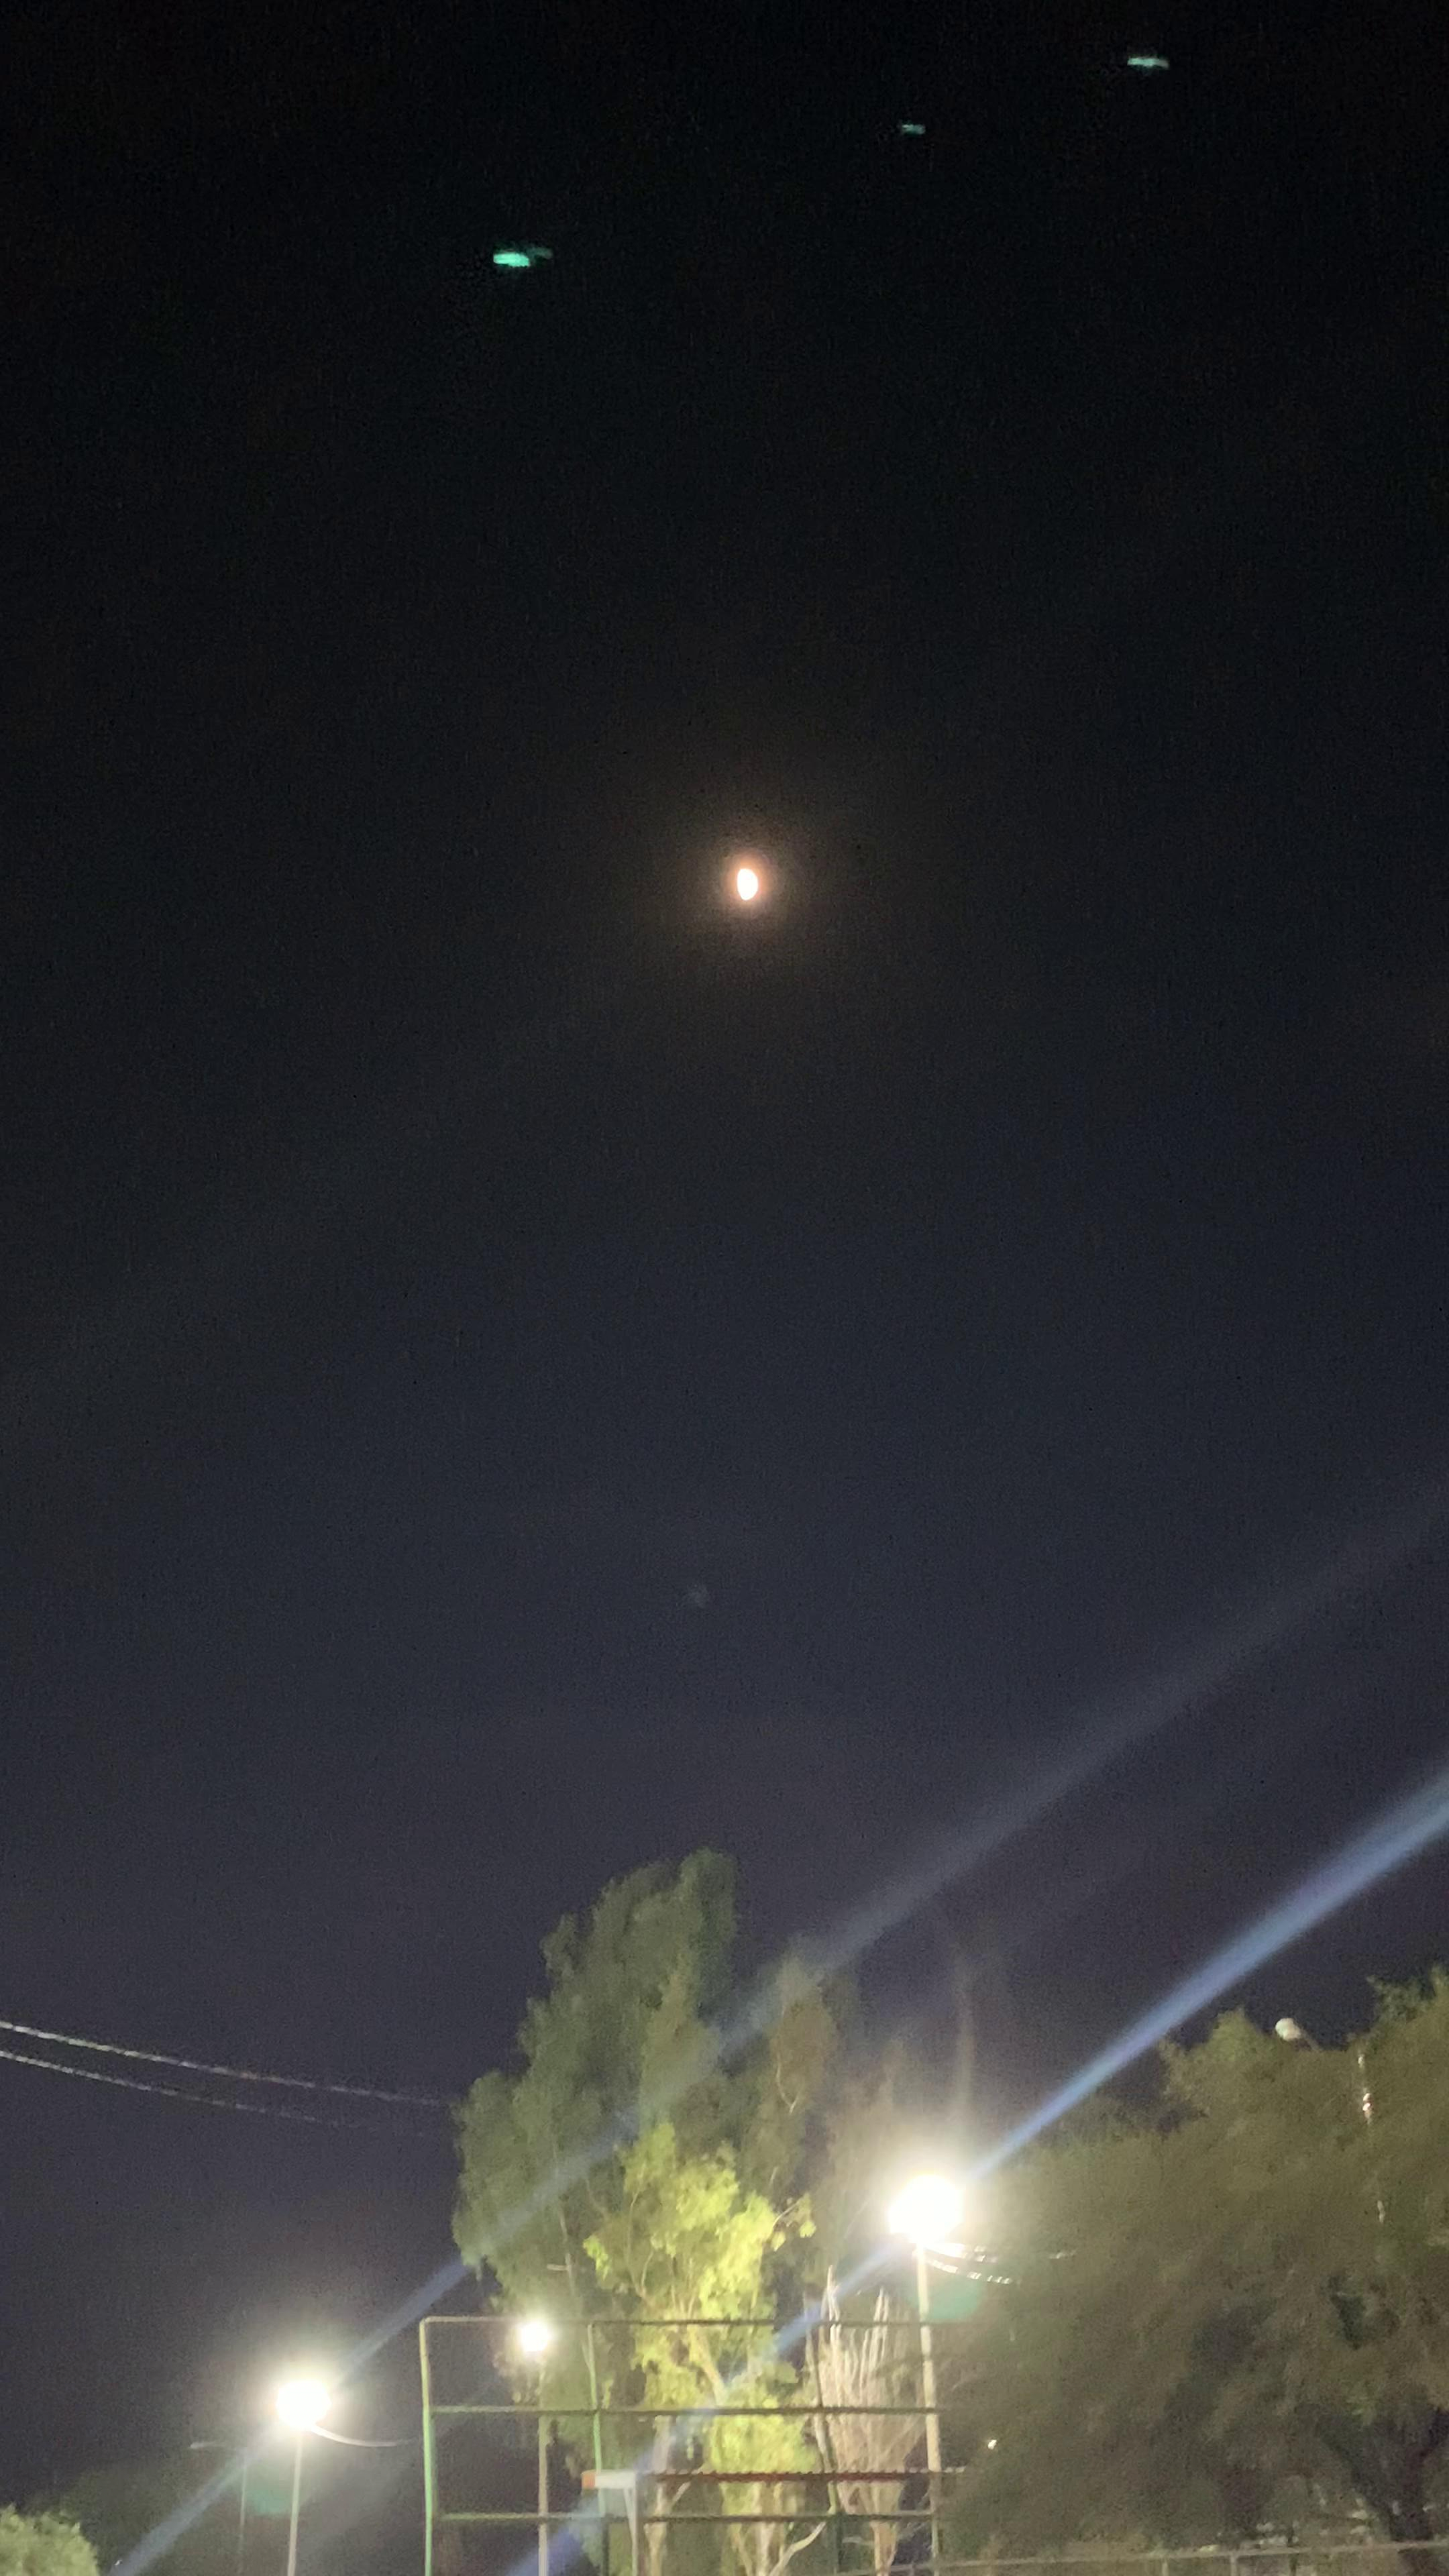moon: (672, 846, 832, 978)
